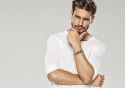male: (71, 1, 96, 36)
